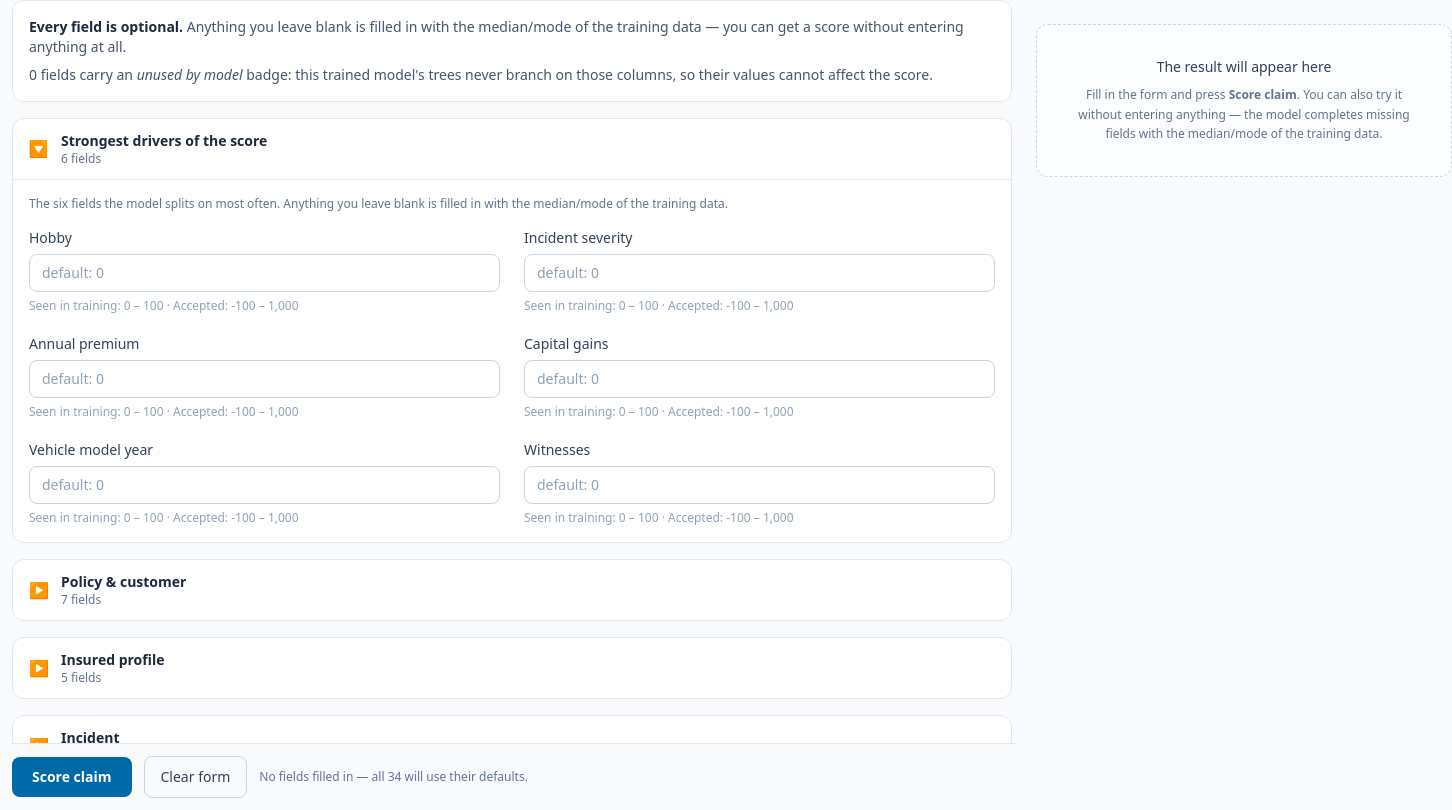
Test case: ScorePage — request generation race guard › A3: a validation error from a request invalidated by 'Clear form' does not paint the cleared form
The width and height of the screenshot is (1452, 810).
Type "2" into the number field labelled "Witnesses" at [760, 485], box [524,466,995,504]
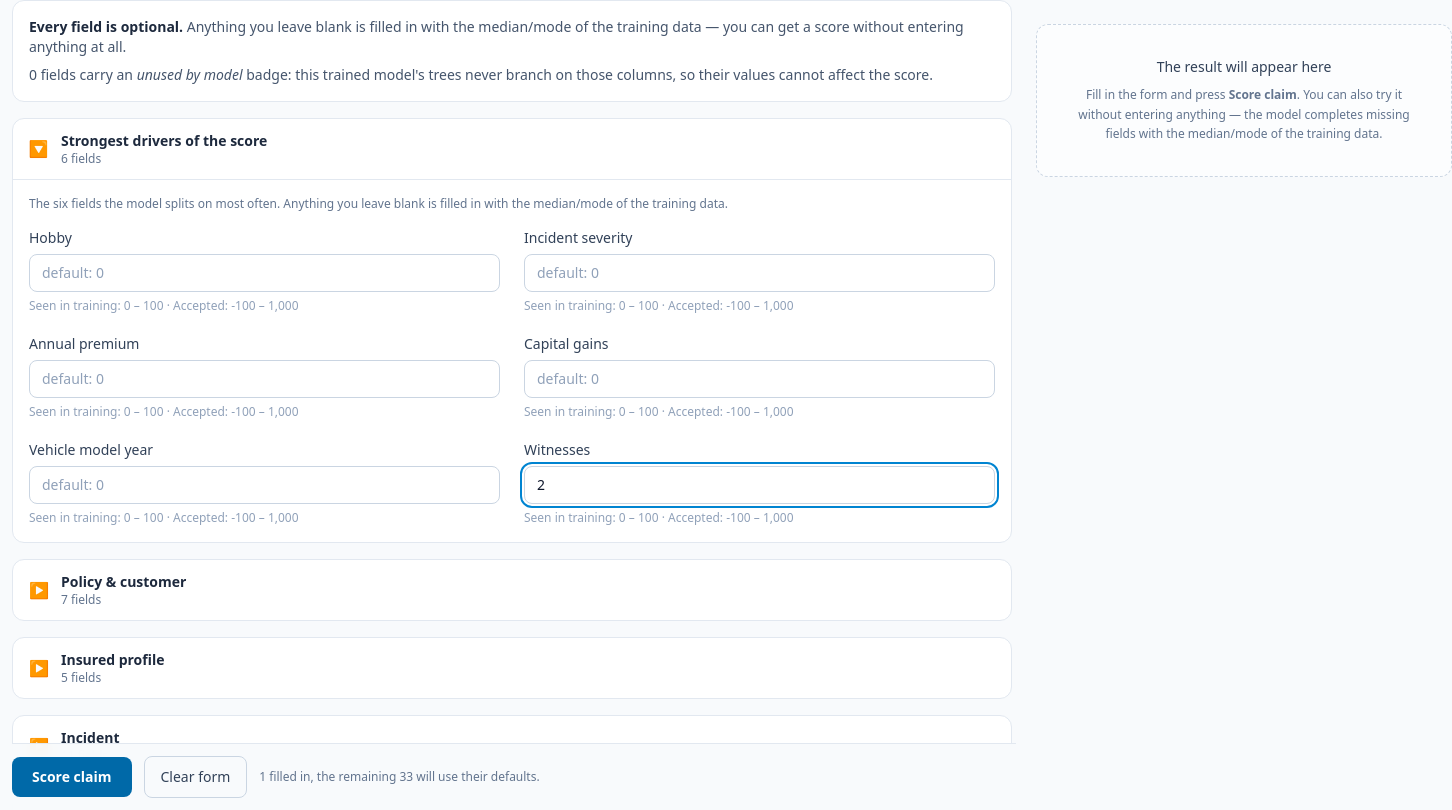
Click the button "Score claim" at [72, 777], box [12,757,132,797]
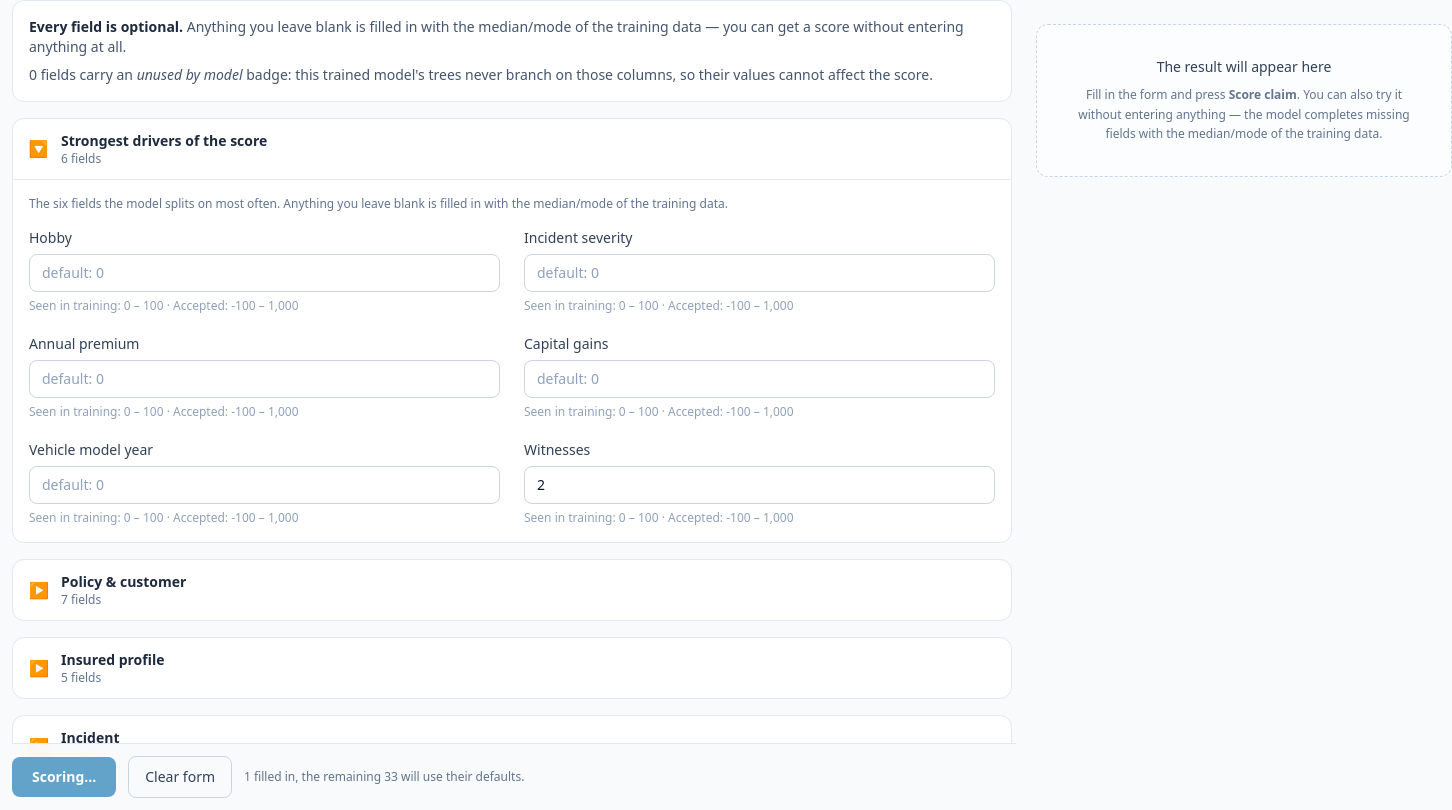
Click the button "Clear form" at [180, 777], box [128,756,232,798]
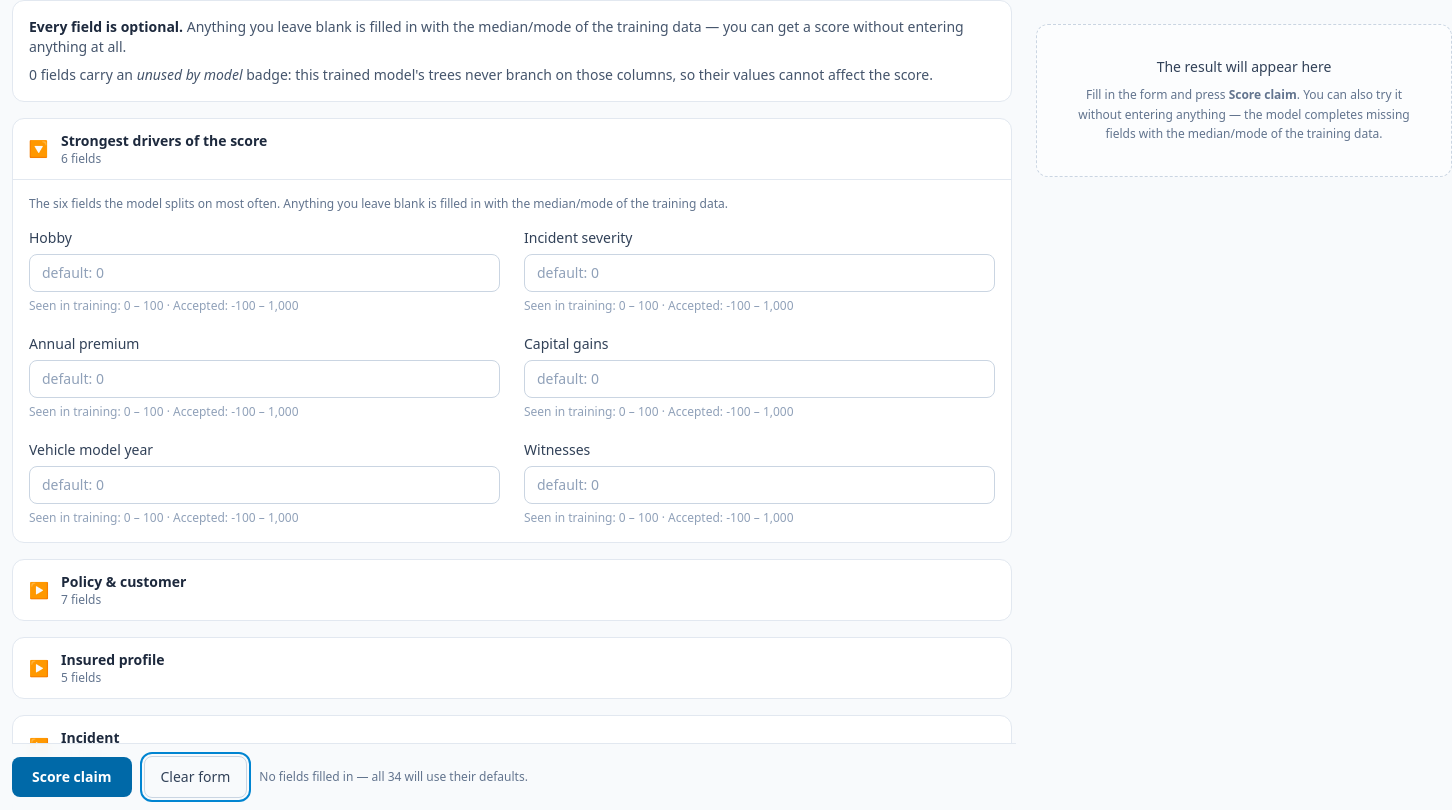
Now the number field labelled "Witnesses" is empty, box [524,466,995,504]
